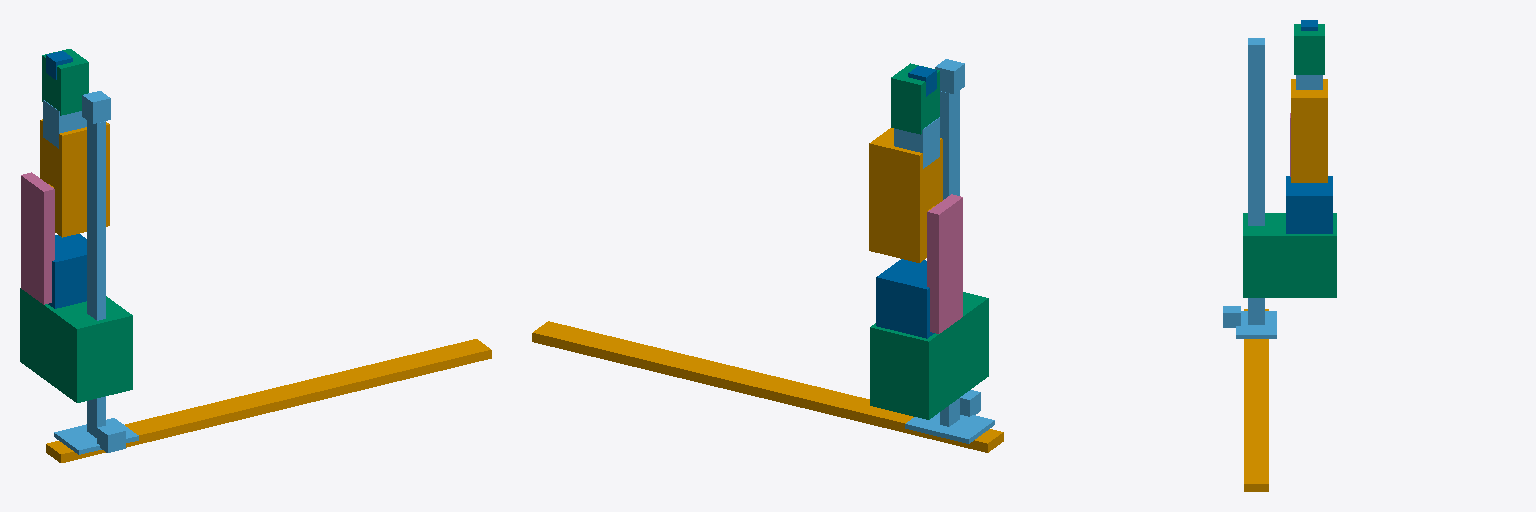
The robot description file, URDF, robot "gantry_arm":
<?xml version="1.0"?>
<robot name="gantry_arm">
  <!-- generated by sim/model.py from params.py -->
  <link name="world_base"><visual><origin xyz="0 0 0.01"/><geometry><box size="1.0 0.06 0.02"/></geometry></visual><inertial><mass value="1.060"/><inertia ixx="1e-3" iyy="1e-3" izz="1e-3" ixy="0" ixz="0" iyz="0"/></inertial></link>
  <link name="x_carriage"><visual name="x_plate"><origin xyz="0 0 0.005"/><geometry><box size="0.14 0.1 0.01"/></geometry></visual><visual name="x_motor"><origin xyz="0 -0.06 0.025"/><geometry><box size="0.042 0.042 0.04"/></geometry></visual><visual name="column"><origin xyz="0 0 0.36"/><geometry><box size="0.02 0.04 0.7"/></geometry></visual><visual name="z_motor"><origin xyz="0 0 0.735"/><geometry><box size="0.042 0.042 0.048"/></geometry></visual><inertial><origin xyz="0 -0.0118227 0.280443"/><mass value="1.421"/><inertia ixx="0.1281" iyy="0.1275" izz="0.001923" ixy="0" ixz="0" iyz="0"/></inertial></link>
  <joint name="gantry_x" type="prismatic"><parent link="world_base"/><child link="x_carriage"/><origin xyz="-0.4 0 0.02" rpy="0 0 0"/><axis xyz="1 0 0"/><limit lower="0.0000" upper="0.8000" effort="200.000" velocity="0.3"/></joint>
  <link name="z_carriage"><visual name="cad_z_carriage"><origin xyz="0 0.04777 -0.02068"/><geometry><box size="0.13 0.227 0.1648"/></geometry></visual><inertial><origin xyz="0 0.04777 -0.02068"/><mass value="0.6574"/><inertia ixx="0.004311" iyy="0.002414" izz="0.003749" ixy="0" ixz="0" iyz="0"/></inertial></link>
  <joint name="gantry_z" type="prismatic"><parent link="x_carriage"/><child link="z_carriage"/><origin xyz="0 0.032 0.21" rpy="0 0 0"/><axis xyz="0 0 1"/><limit lower="0.0000" upper="0.5000" effort="200.000" velocity="0.3"/></joint>
  <link name="platform_top"/><joint name="platform_top_fixed" type="fixed"><parent link="z_carriage"/><child link="platform_top"/><origin xyz="0 0.095 0"/></joint>
  <link name="turret"><visual name="j1_servo"><origin xyz="0 0 -0.02"/><geometry><box size="0.045 0.025 0.035"/></geometry></visual><visual name="j2_servo_a"><origin xyz="0 0.032 0.12"/><geometry><box size="0.025 0.035 0.045"/></geometry></visual><visual name="j2_servo_b"><origin xyz="0 -0.032 0.12"/><geometry><box size="0.025 0.035 0.045"/></geometry></visual><visual name="cad_turret"><origin xyz="-1e-05 -0.00019 0.09818"/><geometry><box size="0.112 0.112 0.1335"/></geometry></visual><inertial><origin xyz="-5.4342e-06 -0.00010325 0.0909089"/><mass value="0.4468"/><inertia ixx="0.001631" iyy="0.001478" izz="0.0006953" ixy="0" ixz="0" iyz="0"/></inertial></link>
  <joint name="base_yaw" type="revolute"><parent link="z_carriage"/><child link="turret"/><origin xyz="0 0.095 0" rpy="0 0 1.5708"/><axis xyz="0 0 1"/><limit lower="-2.6180" upper="2.6180" effort="2.942" velocity="6.0"/></joint>
  <link name="spring_anchor"/><joint name="spring_anchor_fixed" type="fixed"><parent link="turret"/><child link="spring_anchor"/><origin xyz="0 0 0.16"/></joint>
  <link name="upper_arm"><visual name="cad_upper_arm"><origin xyz="-0 0.06316 0.07726"/><geometry><box size="0.092 0.026 0.251"/></geometry></visual><inertial><origin xyz="0 0.06316 0.07726"/><mass value="0.1736"/><inertia ixx="0.0009212" iyy="0.001034" izz="0.0001322" ixy="0" ixz="0" iyz="0"/></inertial></link>
  <joint name="shoulder_lift" type="revolute"><parent link="turret"/><child link="upper_arm"/><origin xyz="0 0 0.12" rpy="0 0 0"/><axis xyz="0 1 0"/><limit lower="-1.7453" upper="2.3562" effort="18.633" velocity="6.0"/></joint>
  <link name="spring_attach"/><joint name="spring_attach_fixed" type="fixed"><parent link="upper_arm"/><child link="spring_attach"/><origin xyz="0 0 0.06"/></joint>
  <link name="forearm"><visual name="j3_servo"><origin xyz="0 0 0"/><geometry><box size="0.025 0.07 0.045"/></geometry></visual><visual name="cad_forearm"><origin xyz="-0 -0.02346 0.03768"/><geometry><box size="0.088 0.11 0.226"/></geometry></visual><inertial><origin xyz="0 -0.0142926 0.0229558"/><mass value="0.3813"/><inertia ixx="0.001488" iyy="0.0013" izz="0.0005027" ixy="0" ixz="0" iyz="0"/></inertial></link>
  <joint name="elbow_flex" type="revolute"><parent link="upper_arm"/><child link="forearm"/><origin xyz="0 0 0.165" rpy="0 0 0"/><axis xyz="0 1 0"/><limit lower="-2.4435" upper="2.4435" effort="18.633" velocity="6.0"/></joint>
  <link name="wrist"><visual name="j4_servo"><origin xyz="0 0 0"/><geometry><box size="0.025 0.035 0.045"/></geometry></visual><visual name="j5_servo"><origin xyz="0 0 0.02475"/><geometry><box size="0.025 0.045 0.035"/></geometry></visual><visual name="cad_wrist"><origin xyz="0 0.00023 0.0086"/><geometry><box size="0.064 0.064 0.083"/></geometry></visual><inertial><origin xyz="0 9.20502e-05 0.0108642"/><mass value="0.1834"/><inertia ixx="0.0001145" iyy="0.0001053" izz="7.074e-05" ixy="0" ixz="0" iyz="0"/></inertial></link>
  <joint name="wrist_flex" type="revolute"><parent link="forearm"/><child link="wrist"/><origin xyz="0 0 0.15" rpy="0 0 0"/><axis xyz="0 1 0"/><limit lower="-1.9199" upper="1.9199" effort="2.942" velocity="6.0"/></joint>
  <link name="tool"><visual name="gripper_servo"><origin xyz="0 0 0.038"/><geometry><box size="0.045 0.025 0.035"/></geometry></visual><visual name="cad_tool"><origin xyz="0.00082 5e-05 0.03906"/><geometry><box size="0.0756 0.0656 0.104"/></geometry></visual><inertial><origin xyz="0.000636368 3.88029e-05 0.0388226"/><mass value="0.2456"/><inertia ixx="0.0002487" iyy="0.0002775" izz="0.0001713" ixy="0" ixz="0" iyz="0"/></inertial></link>
  <joint name="wrist_roll" type="revolute"><parent link="wrist"/><child link="tool"/><origin xyz="0 -0.002 0.055" rpy="0 0 0"/><axis xyz="0 0 1"/><limit lower="-3.1416" upper="3.1416" effort="0.441" velocity="6.0"/></joint>
  <link name="tcp"/><joint name="tcp_fixed" type="fixed"><parent link="tool"/><child link="tcp"/><origin xyz="0 0 0.08"/></joint>
  <link name="payload"><visual name="payload"><origin xyz="0 0 0"/><geometry><box size="0.04 0.04 0.04"/></geometry></visual><inertial><origin xyz="0 0 0"/><mass value="0.5"/><inertia ixx="0.0001333" iyy="0.0001333" izz="0.0001333" ixy="0" ixz="0" iyz="0"/></inertial></link>
  <joint name="payload_fixed" type="fixed"><parent link="tool"/><child link="payload"/><origin xyz="0 0.015 0.08" rpy="0 0 0"/></joint>
  <link name="finger_left"><visual name="finger_left"><origin xyz="0.004 0 0.005"/><geometry><box size="0.006 0.018 0.03"/></geometry></visual><inertial><origin xyz="0.004 0 0.005"/><mass value="0.0005"/><inertia ixx="1e-07" iyy="1e-07" izz="1e-07" ixy="0" ixz="0" iyz="0"/></inertial></link>
  <joint name="gripper_left" type="prismatic"><parent link="tool"/><child link="finger_left"/><origin xyz="0 0 0.07" rpy="0 0 0"/><axis xyz="1 0 0"/><limit lower="0.0000" upper="0.0200" effort="200.000" velocity="0.3"/></joint>
  <link name="finger_right"><visual name="finger_right"><origin xyz="-0.004 0 0.005"/><geometry><box size="0.006 0.018 0.03"/></geometry></visual><inertial><origin xyz="-0.004 0 0.005"/><mass value="0.0005"/><inertia ixx="1e-07" iyy="1e-07" izz="1e-07" ixy="0" ixz="0" iyz="0"/></inertial></link>
  <joint name="gripper_right" type="prismatic"><parent link="tool"/><child link="finger_right"/><origin xyz="0 0 0.07" rpy="0 0 0"/><axis xyz="-1 0 0"/><limit lower="0.0000" upper="0.0200" effort="200.000" velocity="0.3"/><mimic joint="gripper_left" multiplier="1" offset="0"/></joint>
</robot>

--- Facts derived from the render (not from the file) ---
Views: 3 orthographic renders of the robot side by side, from view 1: azimuth 30°, elevation 25°; view 2: azimuth 150°, elevation 25°; view 3: azimuth 270°, elevation 25°.
Model gantry_arm with 15 links and 14 joints (5 revolute, 4 prismatic, 5 fixed), rooted at world_base, posed every joint at zero.
Visible links, largest first — view 1: z_carriage, world_base, x_carriage, forearm, upper_arm, turret, tool, wrist; view 2: z_carriage, world_base, forearm, x_carriage, upper_arm, turret, tool, wrist; view 3: z_carriage, x_carriage, world_base, forearm, turret, tool.
Boxes of the visible links, left/top/right/bottom form: z_carriage: left=20, top=288, right=132, bottom=402; world_base: left=46, top=339, right=491, bottom=462; x_carriage: left=54, top=91, right=138, bottom=454; forearm: left=40, top=119, right=109, bottom=237; upper_arm: left=21, top=172, right=54, bottom=304; turret: left=48, top=234, right=86, bottom=308; tool: left=42, top=49, right=88, bottom=115; wrist: left=43, top=100, right=86, bottom=148; z_carriage: left=870, top=292, right=988, bottom=419; world_base: left=532, top=321, right=1003, bottom=452; forearm: left=869, top=128, right=942, bottom=262; x_carriage: left=905, top=59, right=994, bottom=443; upper_arm: left=927, top=194, right=962, bottom=333; turret: left=876, top=259, right=934, bottom=338; tool: left=891, top=63, right=939, bottom=134; wrist: left=894, top=117, right=939, bottom=168; z_carriage: left=1243, top=213, right=1336, bottom=297; x_carriage: left=1223, top=38, right=1276, bottom=338; world_base: left=1244, top=309, right=1268, bottom=491; forearm: left=1291, top=79, right=1327, bottom=182; turret: left=1286, top=176, right=1332, bottom=233; tool: left=1294, top=24, right=1324, bottom=74.
Size in the robot's own frame: 1 by 0.2743 by 0.82 metres.
Geometry: primitives only (box / cylinder / sphere), no mesh files.
